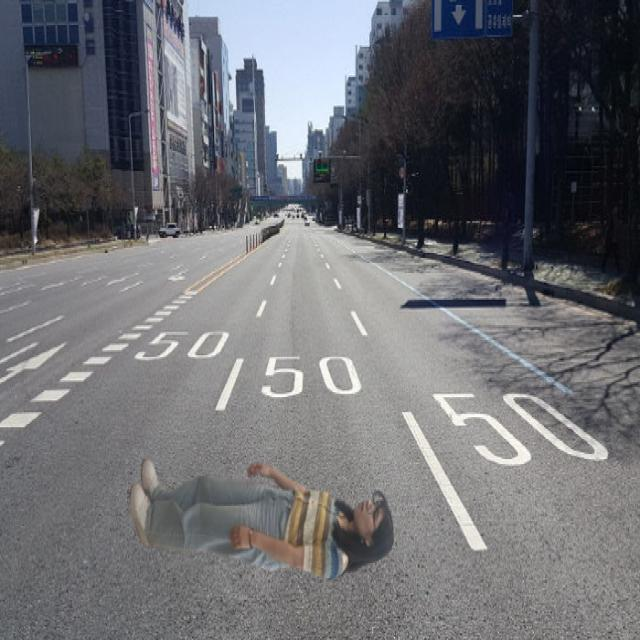layPeopleL: (133, 466, 396, 578)
